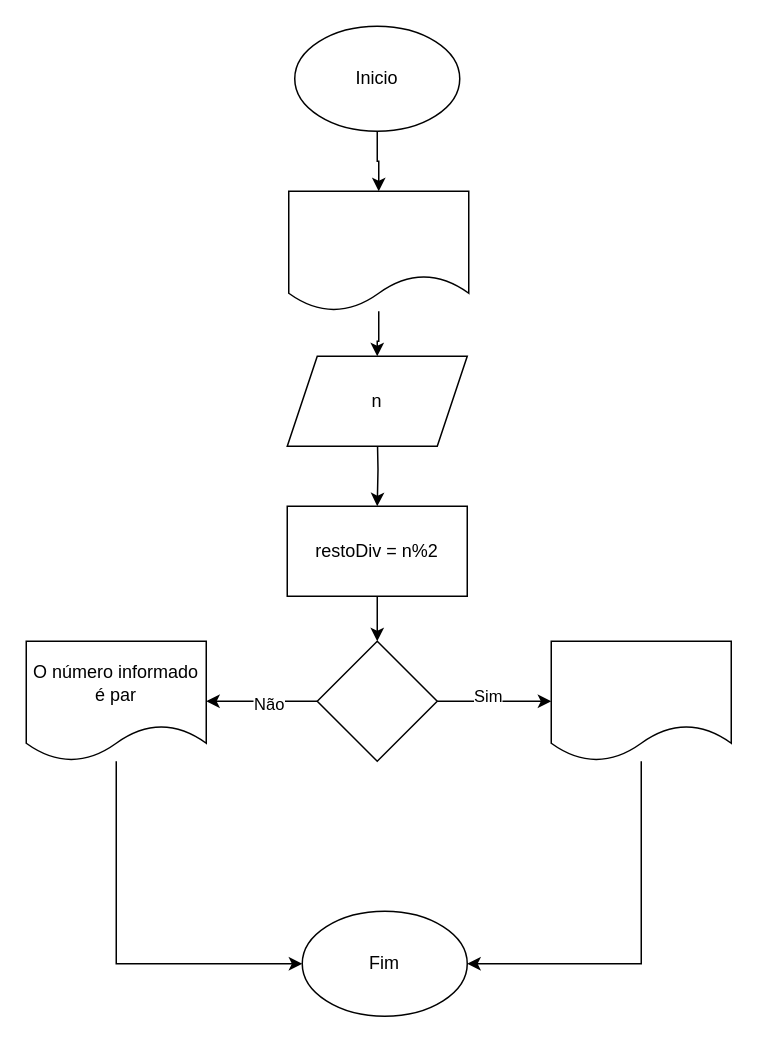
Some shapes in this 758 by 1043 pixel diagram are drawn without their labels. The shapes that lost their labels are listed below. From the top down, each one's centre as x and y in pixels, then its label:
the point at 378,250: Informe um número
the point at 376,700: restoDiv>0
the point at 640,700: O número informado é impar
